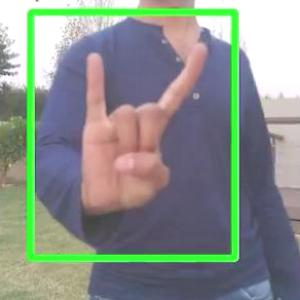takeoff-hand: (74, 24, 217, 223)
